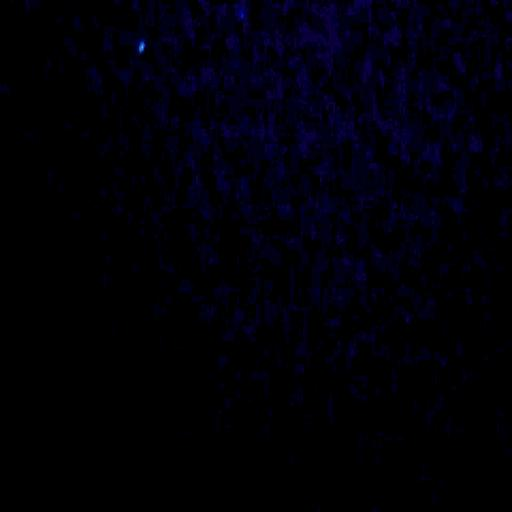object-detection-project: (138, 40, 145, 54)
